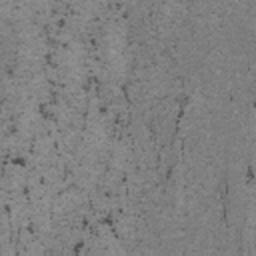Oxide scale of temperature system: (0, 1, 134, 234), (72, 91, 191, 256), (221, 164, 255, 225), (227, 90, 256, 110)
